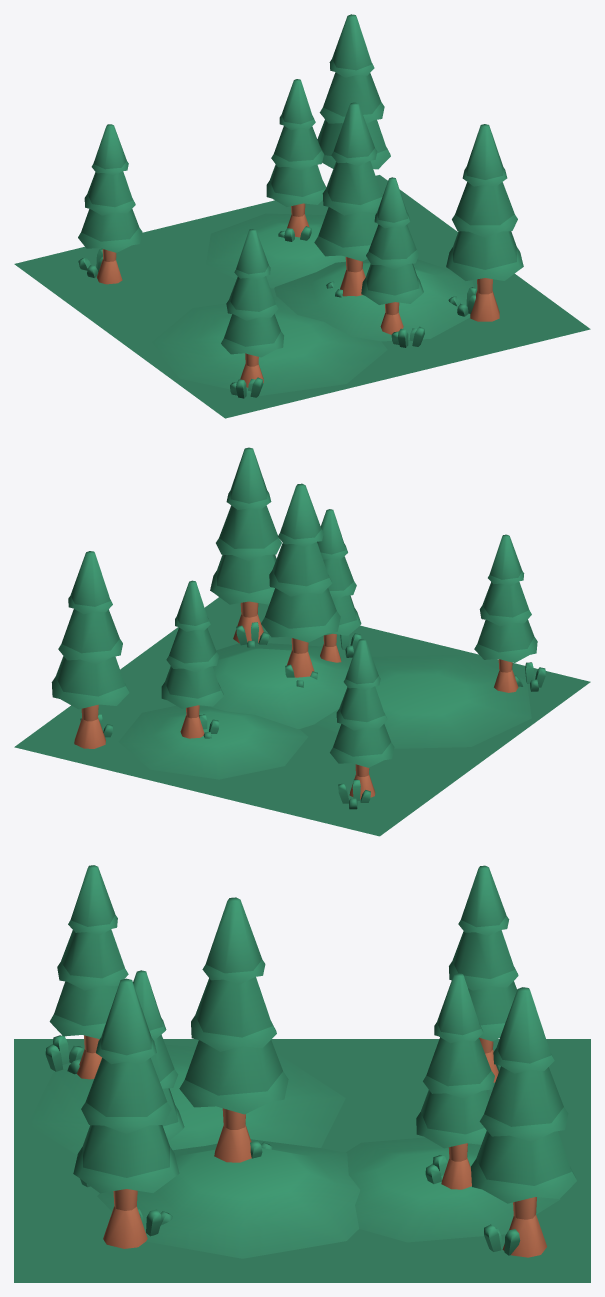
File: decoration-forest.glb
The picture shows the model from 3 angles, top to bottom: view 1: azimuth 30°, elevation 25°; view 2: azimuth 150°, elevation 25°; view 3: azimuth 270°, elevation 25°; orthographic projection. The views are drawn at different scales.
Parts seen in each view (by area): view 1: decoration-forest; view 2: decoration-forest; view 3: decoration-forest.
Boxes of the visible parts, box(x1,y1,x2,y2) form: decoration-forest: box(14, 14, 590, 418); decoration-forest: box(14, 447, 590, 836); decoration-forest: box(14, 865, 590, 1282).
Size of the model in its own units: 10 by 5.33 by 10.
1 material, 1 textured.
